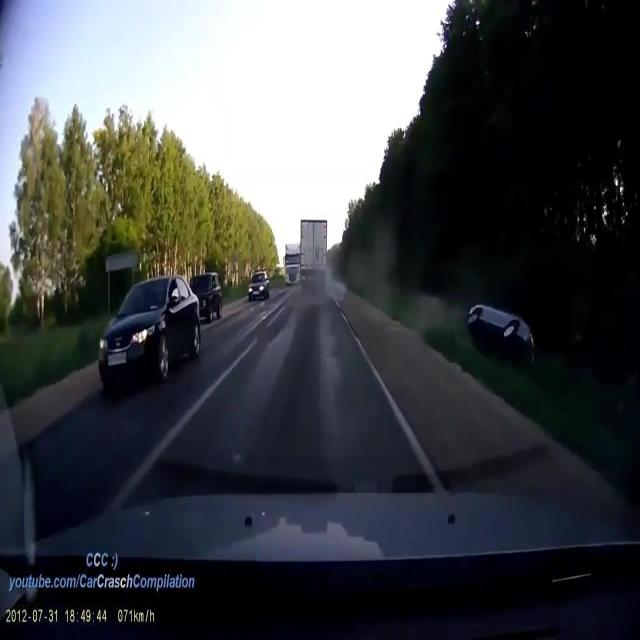accident: (466, 292, 538, 368)
